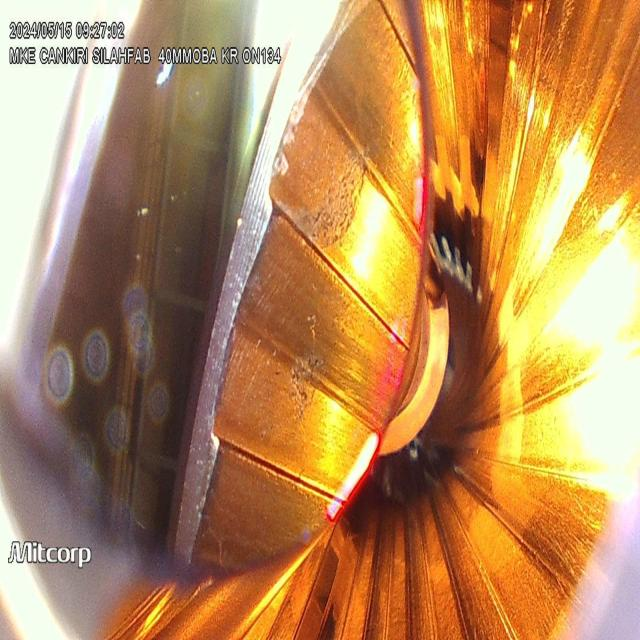hata_5.3: (294, 162, 372, 255), (286, 346, 330, 423)
